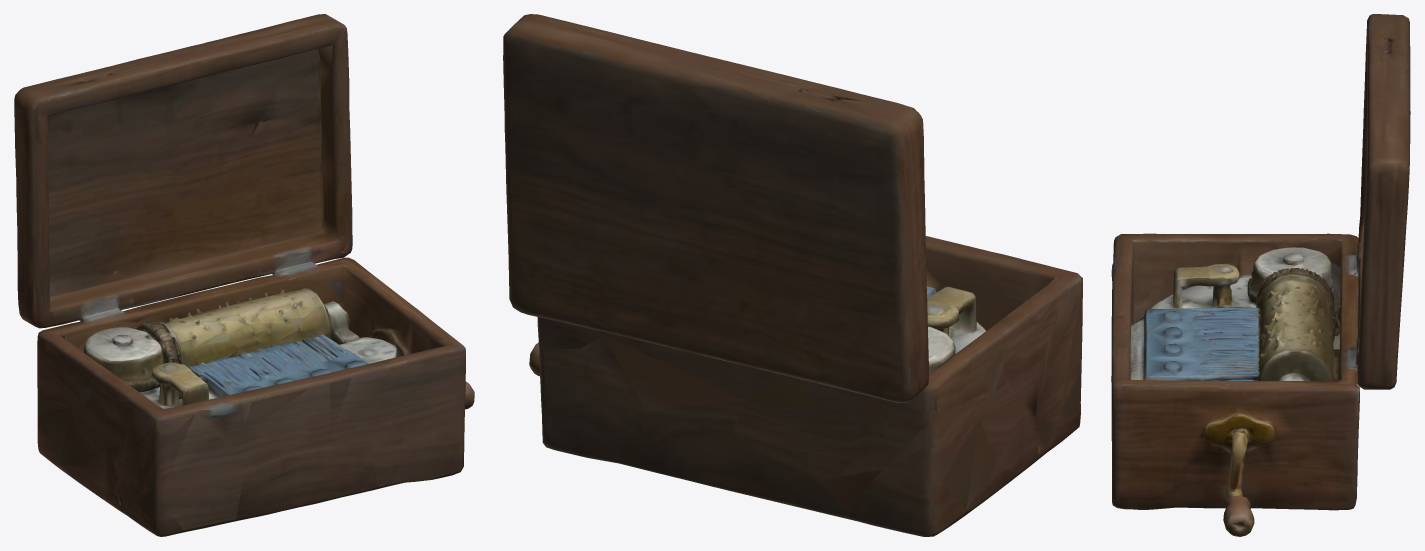
File: sc-pinned-cylinder.glb
3 renders of one model, left to right at view 1: azimuth 30°, elevation 25°; view 2: azimuth 150°, elevation 25°; view 3: azimuth 270°, elevation 25°, orthographic. The views are drawn at different scales.
Parts seen in each view (by area): view 1: geometry_0; view 2: geometry_0; view 3: geometry_0.
Boxes of the visible parts, left/top/right/bottom form: geometry_0: left=14, top=14, right=474, bottom=536; geometry_0: left=503, top=14, right=1082, bottom=536; geometry_0: left=1111, top=14, right=1410, bottom=536.
Size of the model in its own units: 1 by 0.9037 by 0.6929.
1 material, 1 textured.
